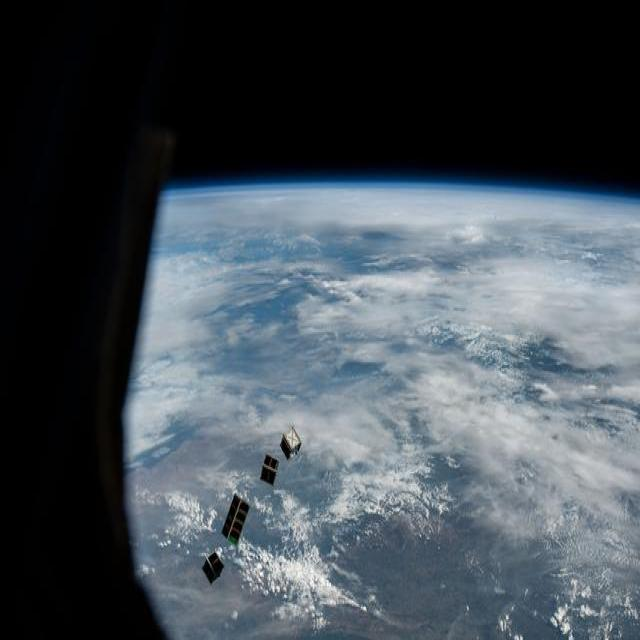satellite: (222, 494, 250, 545), (280, 426, 301, 459), (202, 552, 224, 583), (260, 454, 279, 484)
